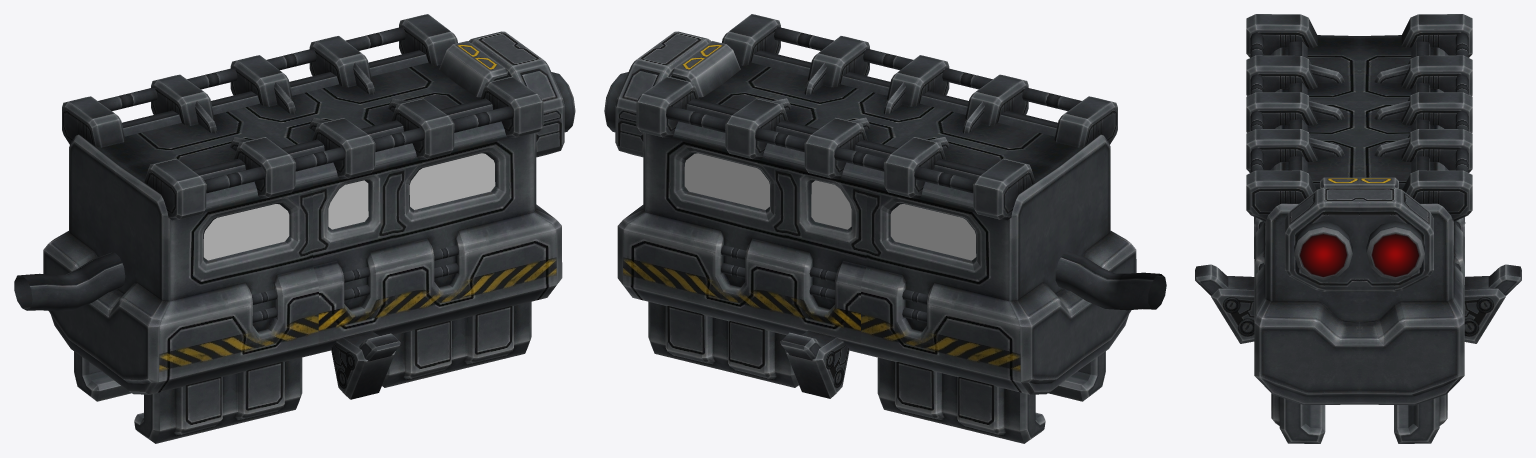
Rendered from monocar_00.fbx.
The picture shows the model from 3 angles, left to right: view 1: azimuth 30°, elevation 25°; view 2: azimuth 150°, elevation 25°; view 3: azimuth 270°, elevation 25°; orthographic projection. The views are drawn at different scales.
Parts seen in each view (by area): view 1: Geoset_0, Geoset_1; view 2: Geoset_0, Geoset_1; view 3: Geoset_0.
Part boxes in pixels (x1,y1,x2,y2): Geoset_0: (14, 14, 575, 443); Geoset_1: (203, 153, 495, 260); Geoset_0: (604, 14, 1166, 443); Geoset_1: (684, 153, 976, 260); Geoset_0: (1195, 14, 1521, 443).
Size of the model in its own units: 2.99 by 1.5 by 1.71.
Materials: 1 (1 with a texture image).
